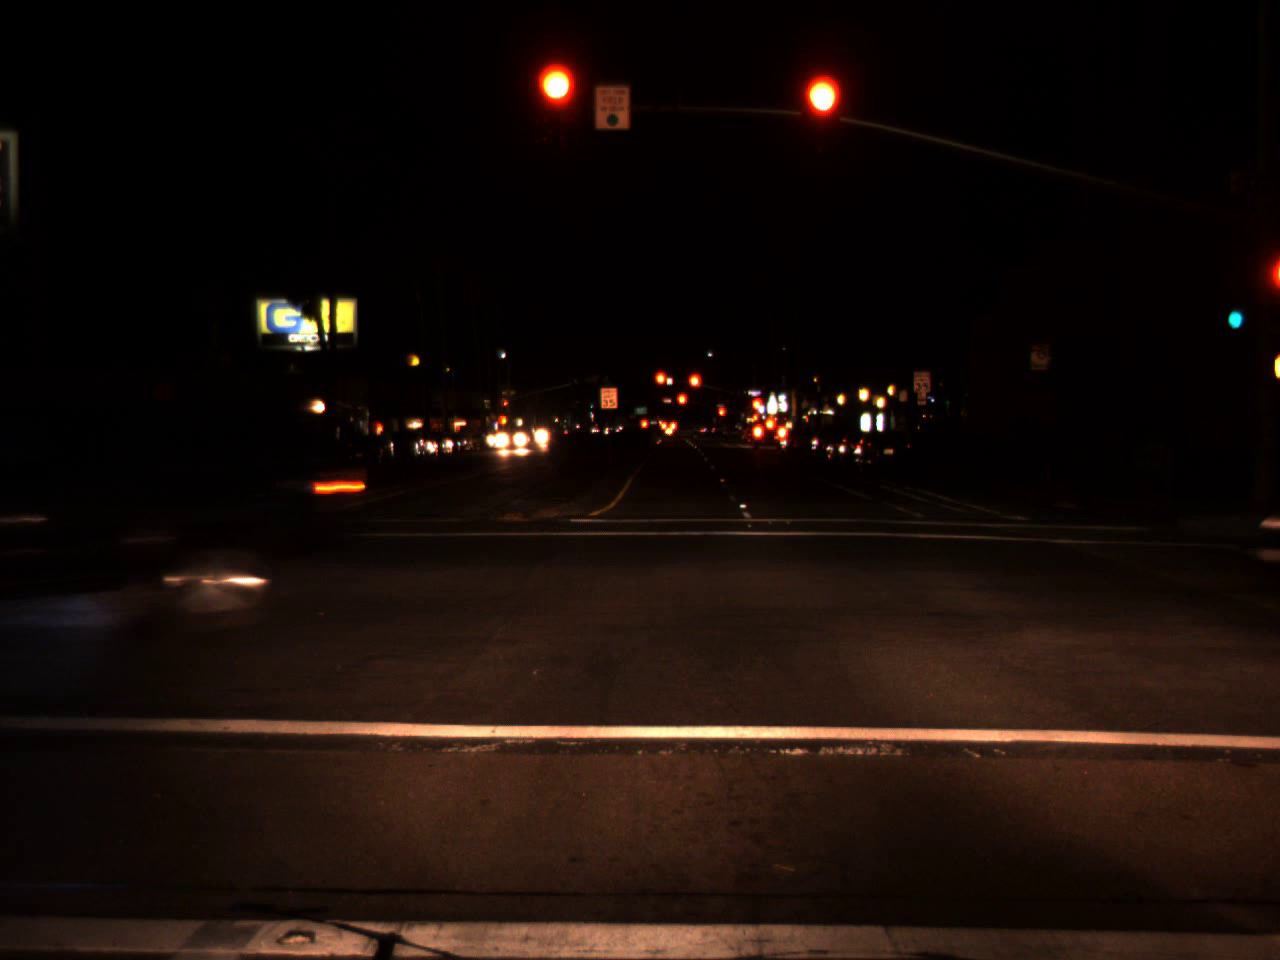stop: (537, 64, 577, 142), (801, 75, 841, 153), (653, 369, 671, 401), (686, 371, 702, 403), (676, 391, 688, 418), (749, 396, 764, 412), (717, 406, 727, 427), (503, 398, 509, 414)
